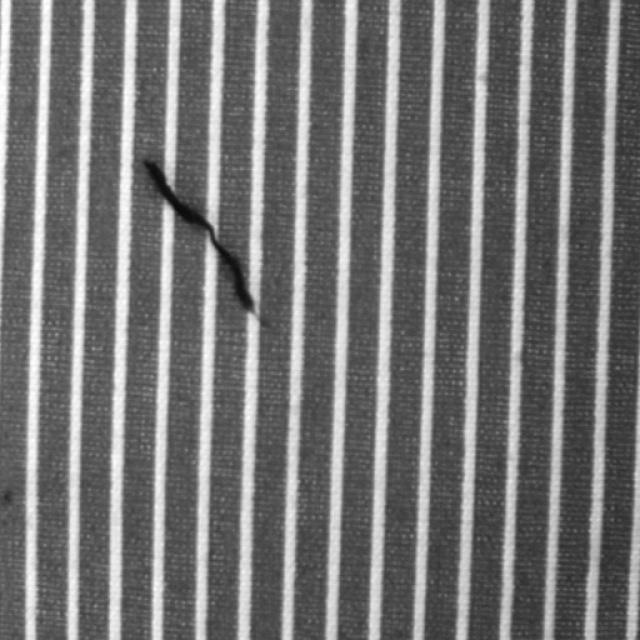Foreign-Body-Defect: (142, 159, 254, 315)
